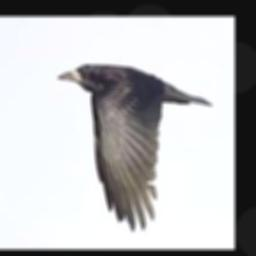Crow: (56, 64, 211, 229)
